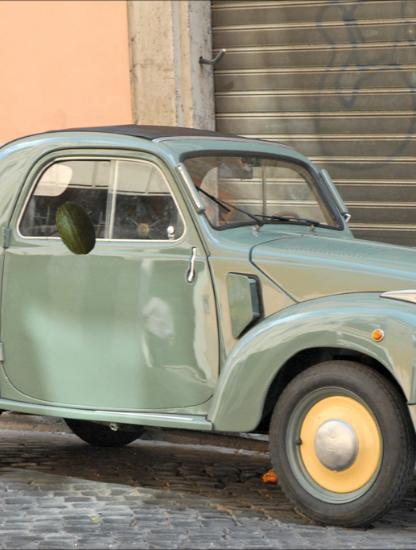Melon: (48, 200, 105, 257)
